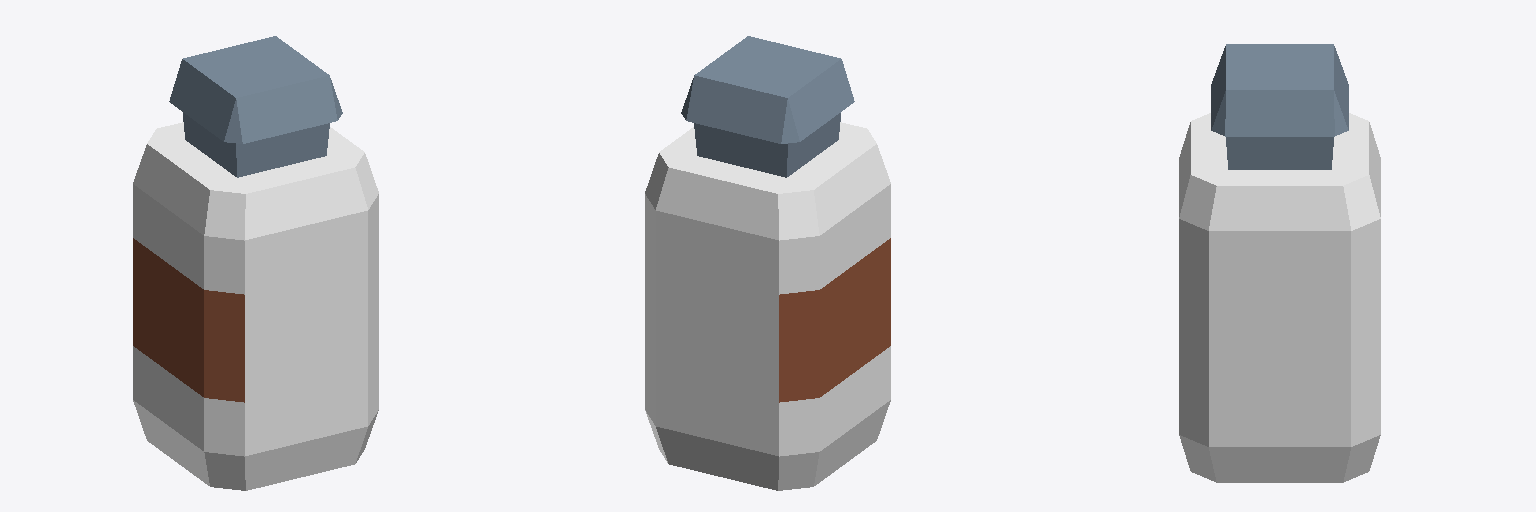
File: shakerPepper.obj
3 views of the same model, side by side, from view 1: azimuth 30°, elevation 25°; view 2: azimuth 150°, elevation 25°; view 3: azimuth 270°, elevation 25° (orthographic).
Visible parts, largest first — view 1: shakerPepper; view 2: shakerPepper; view 3: shakerPepper.
Boxes of the visible parts, box(x1,y1,x2,y2) form: shakerPepper: box(133, 36, 378, 490); shakerPepper: box(645, 36, 890, 490); shakerPepper: box(1179, 44, 1380, 482).
Bounding box in the file's own units: 0.0949 × 0.196 × 0.0949.